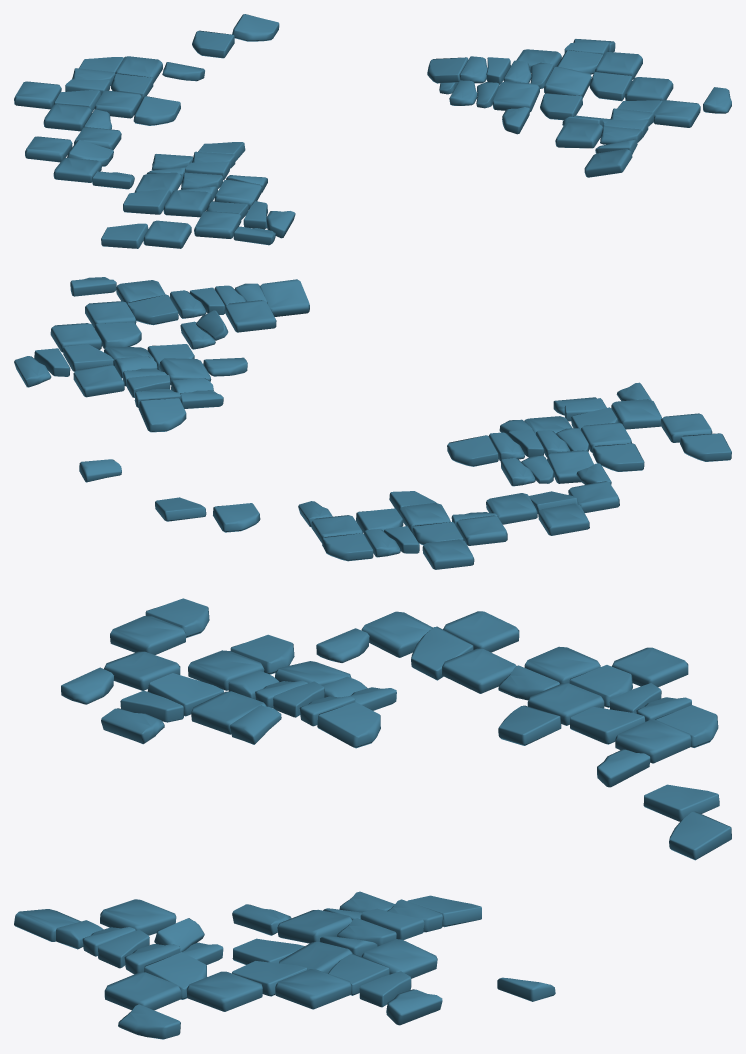
File: Floor_Break_04E_Lod0.fbx
The picture shows the model from 3 angles, top to bottom: view 1: azimuth 30°, elevation 25°; view 2: azimuth 150°, elevation 25°; view 3: azimuth 270°, elevation 25°; orthographic projection. The views are drawn at different scales.
Parts seen in each view (by area): view 1: Floor_Break_04E_Lod0; view 2: Floor_Break_04E_Lod0; view 3: Floor_Break_04E_Lod0.
Boxes of the visible parts, x1=… form: Floor_Break_04E_Lod0: x1=14, y1=14, x2=731, y2=248; Floor_Break_04E_Lod0: x1=14, y1=277, x2=731, y2=569; Floor_Break_04E_Lod0: x1=14, y1=598, x2=731, y2=1039.
Bounding box in the file's own units: 905 × 79.46 × 635.
